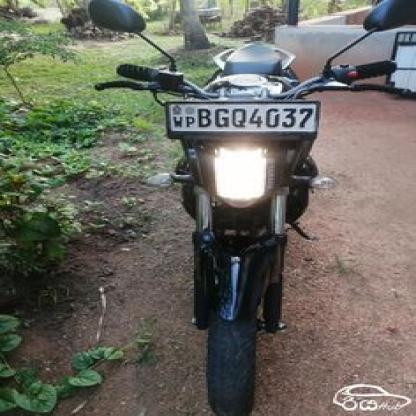bike front: (84, 0, 416, 416)
number plate: (169, 105, 320, 130)
